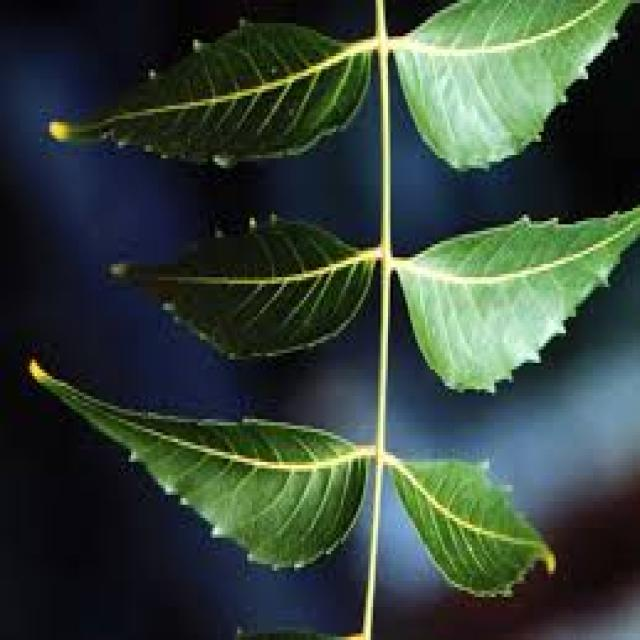Neem-Tree: (27, 0, 640, 637)
